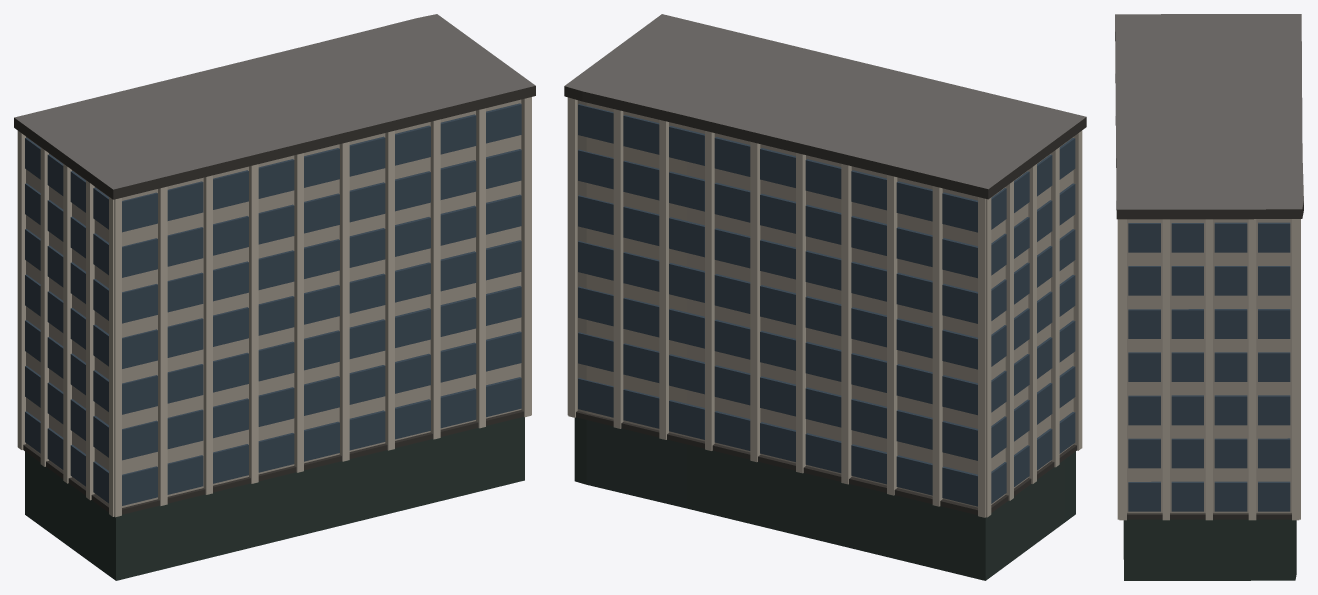
File: mcintyre_building.glb
3 views of the same model, side by side, from view 1: azimuth 30°, elevation 25°; view 2: azimuth 150°, elevation 25°; view 3: azimuth 270°, elevation 25° (orthographic). The views are drawn at different scales.
Parts seen in each view (by area): view 1: Mcintyre_Building; view 2: Mcintyre_Building; view 3: Mcintyre_Building.
Boxes of the visible parts, x1=… form: Mcintyre_Building: x1=14, y1=14, x2=535, y2=580; Mcintyre_Building: x1=564, y1=14, x2=1086, y2=580; Mcintyre_Building: x1=1115, y1=14, x2=1303, y2=580.
Bounding box in the file's own units: 43.48 × 38.8 × 17.74.
